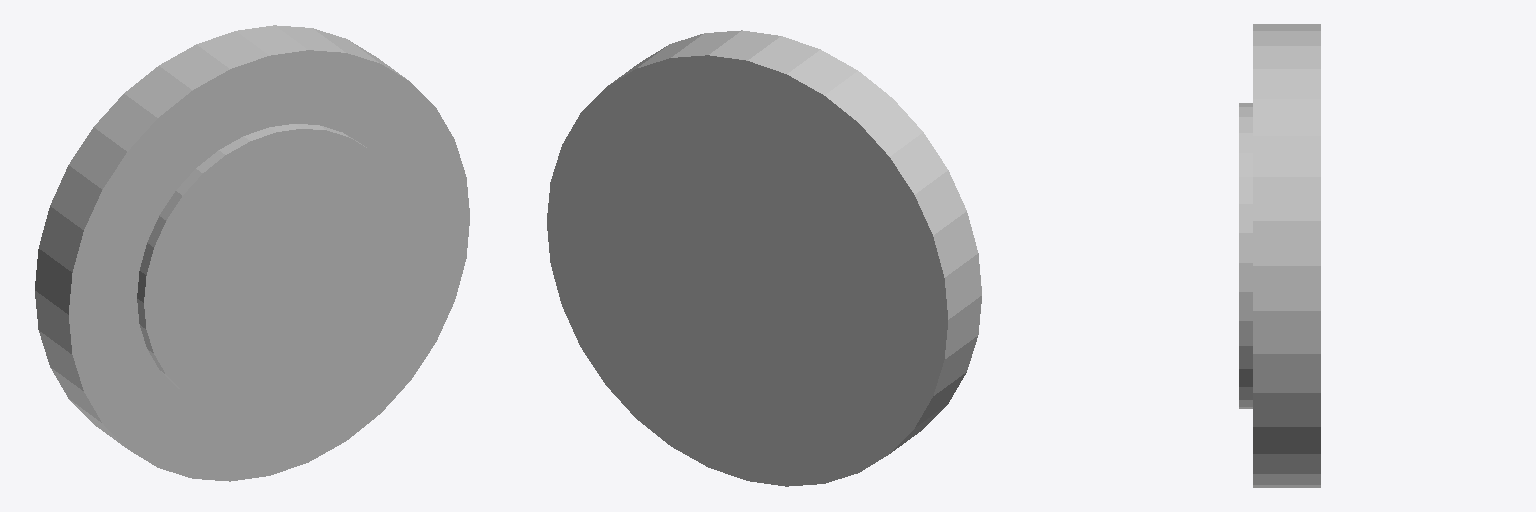
File: button_pressed.obj
The picture shows the model from 3 angles: view 1: azimuth 30°, elevation 25°; view 2: azimuth 150°, elevation 25°; view 3: azimuth 270°, elevation 25°; orthographic projection.
Visible parts, largest first — view 1: Cylinder; view 2: Cylinder; view 3: Cylinder.
Boxes of the visible parts, <box> form: Cylinder: <box>35,25,469,481</box>; Cylinder: <box>547,30,981,486</box>; Cylinder: <box>1239,24,1320,487</box>.
Bounding box in the file's own units: 0.3272 × 0.3272 × 0.0577.